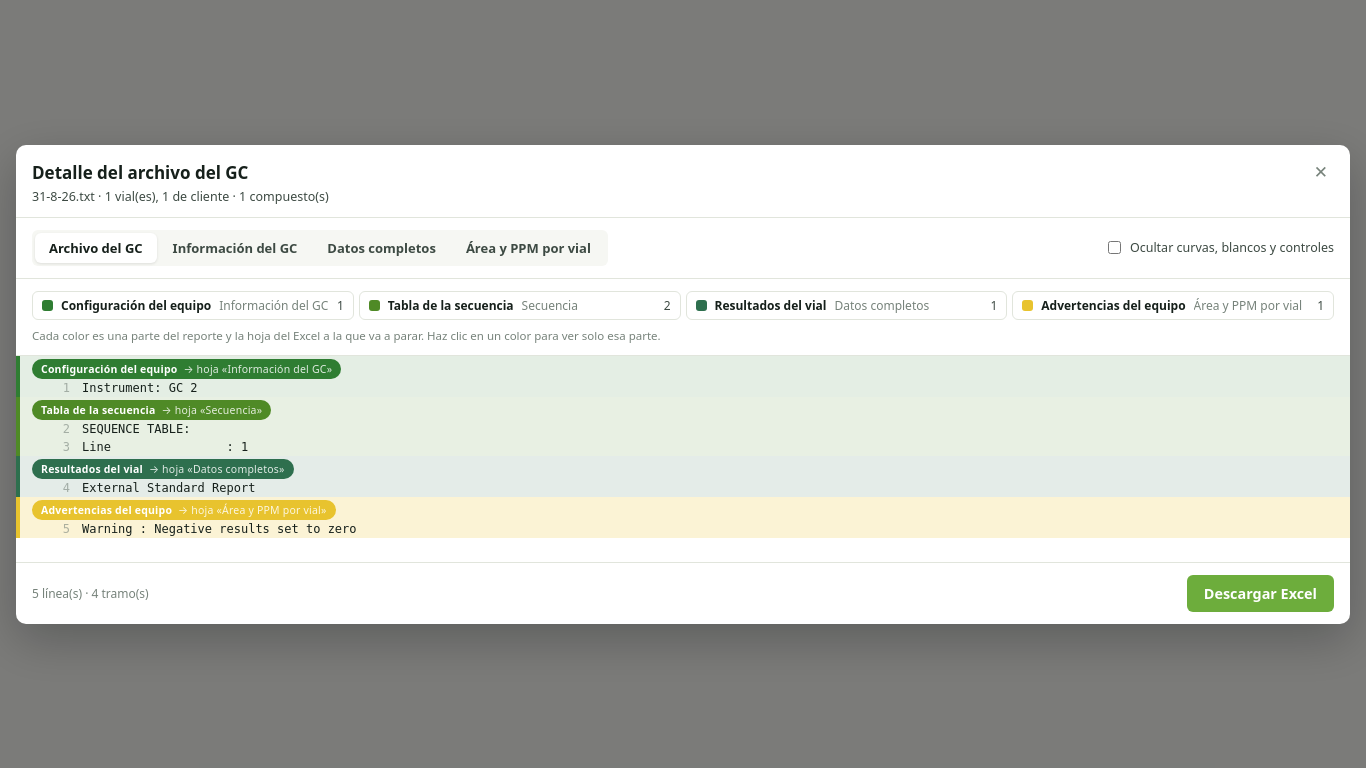
Test case: DetalleGCModal · visor del archivo › deja ver una sola parte del archivo a la vez
Click the button "Advertencias del equipo Área y PPM por vial 1" at (1173, 305), box [1012,290,1334,320]
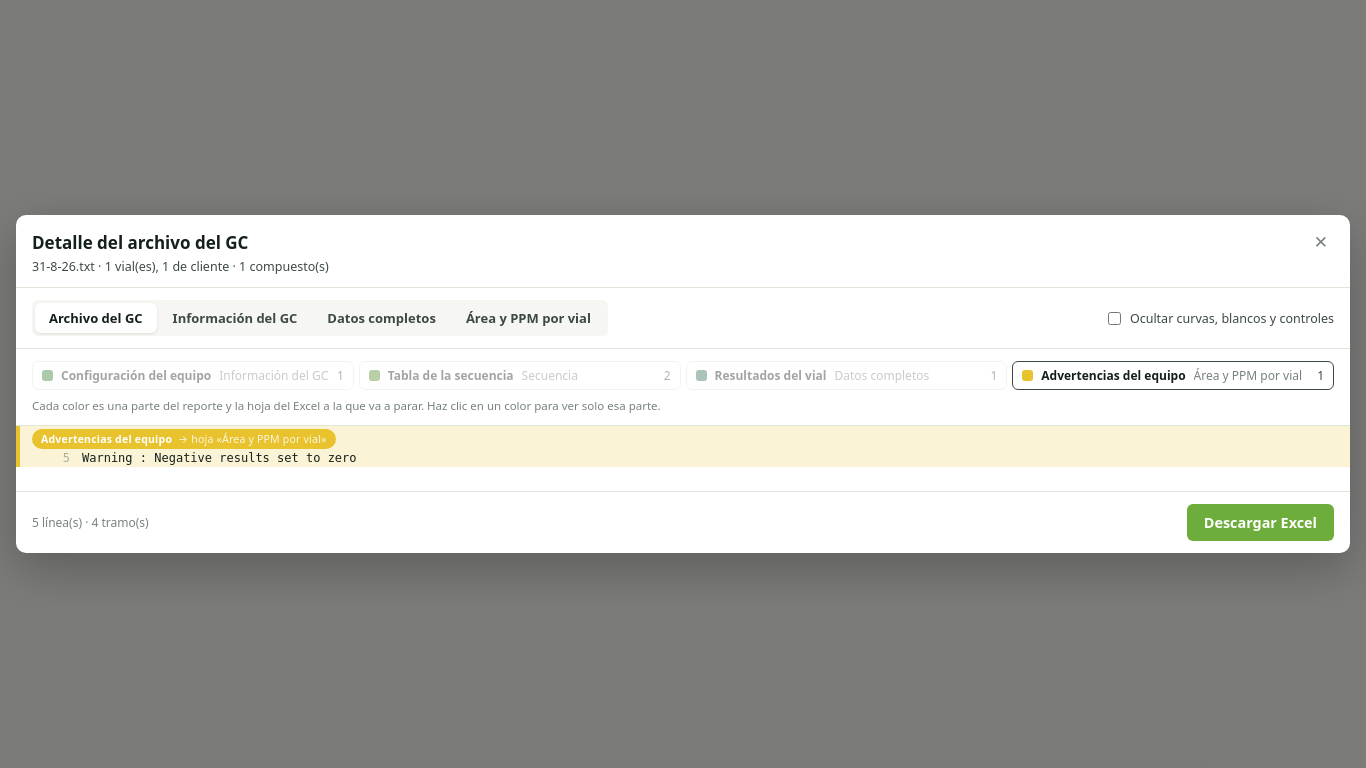
Expected: the text "Warning : Negative results set to zero" is shown, [82,449,380,467]
Expected: the text "Instrument: GC 2" is gone
Click the button "Advertencias del equipo Área y PPM por vial 1" at (1173, 376), box [1012,361,1334,390]
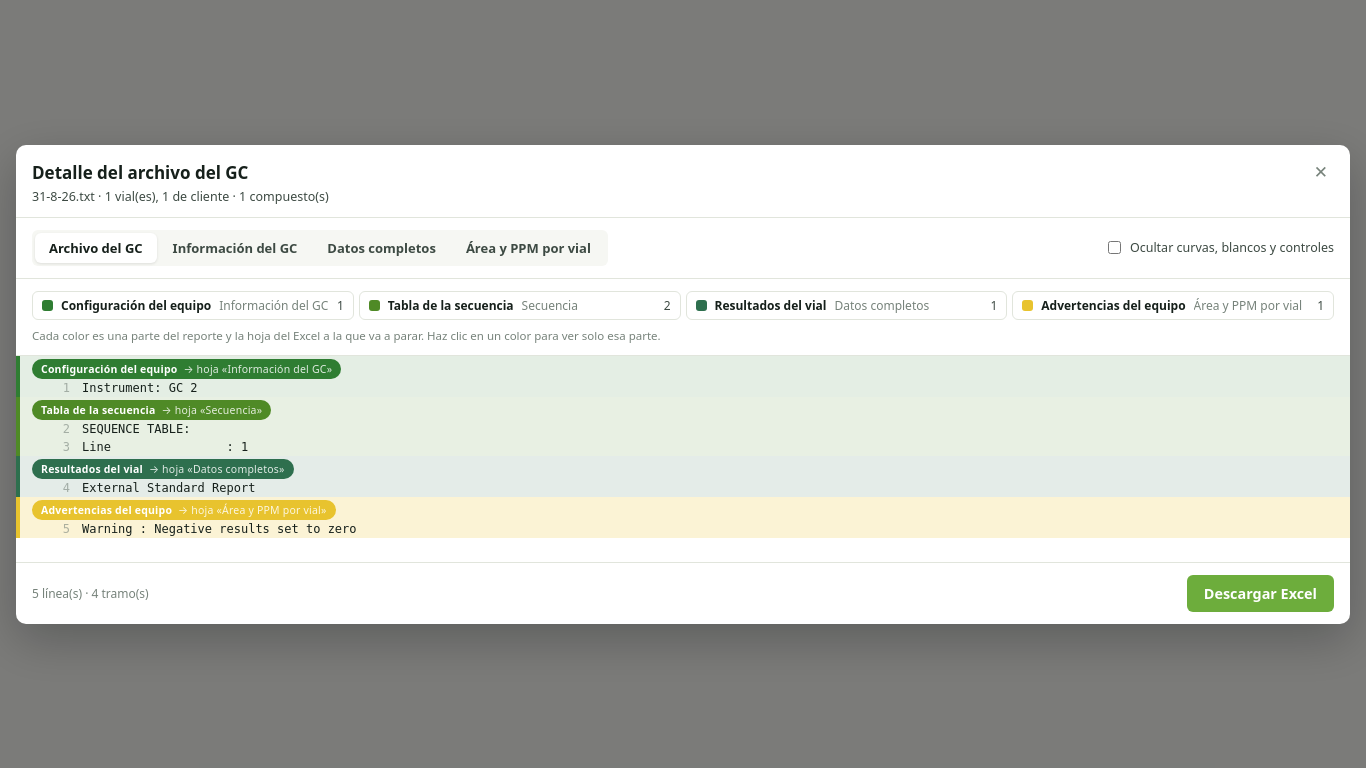
Expected: the text "Instrument: GC 2" is shown, [82,380,198,394]
